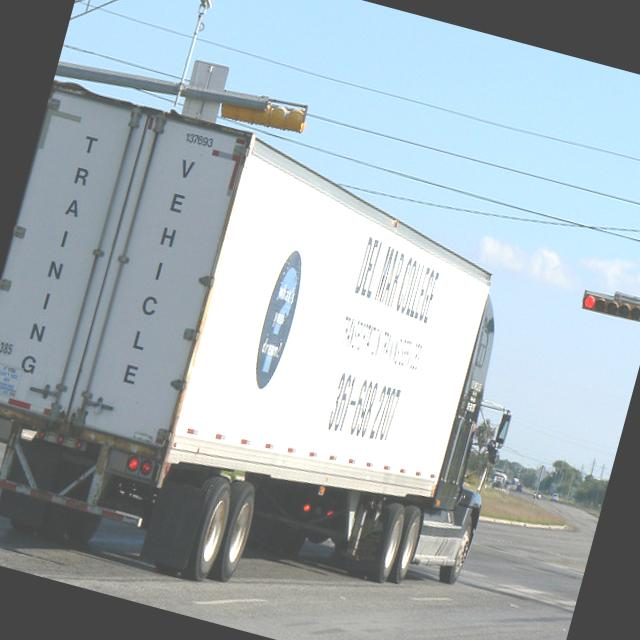Vehicle: (0, 71, 571, 640)
